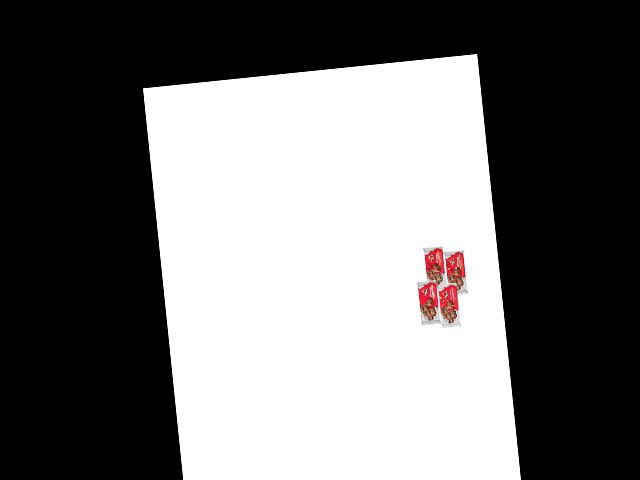chocolate: (440, 246, 470, 298)
